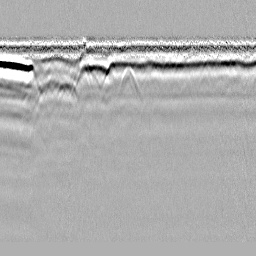cavity: (117, 66, 142, 98)
